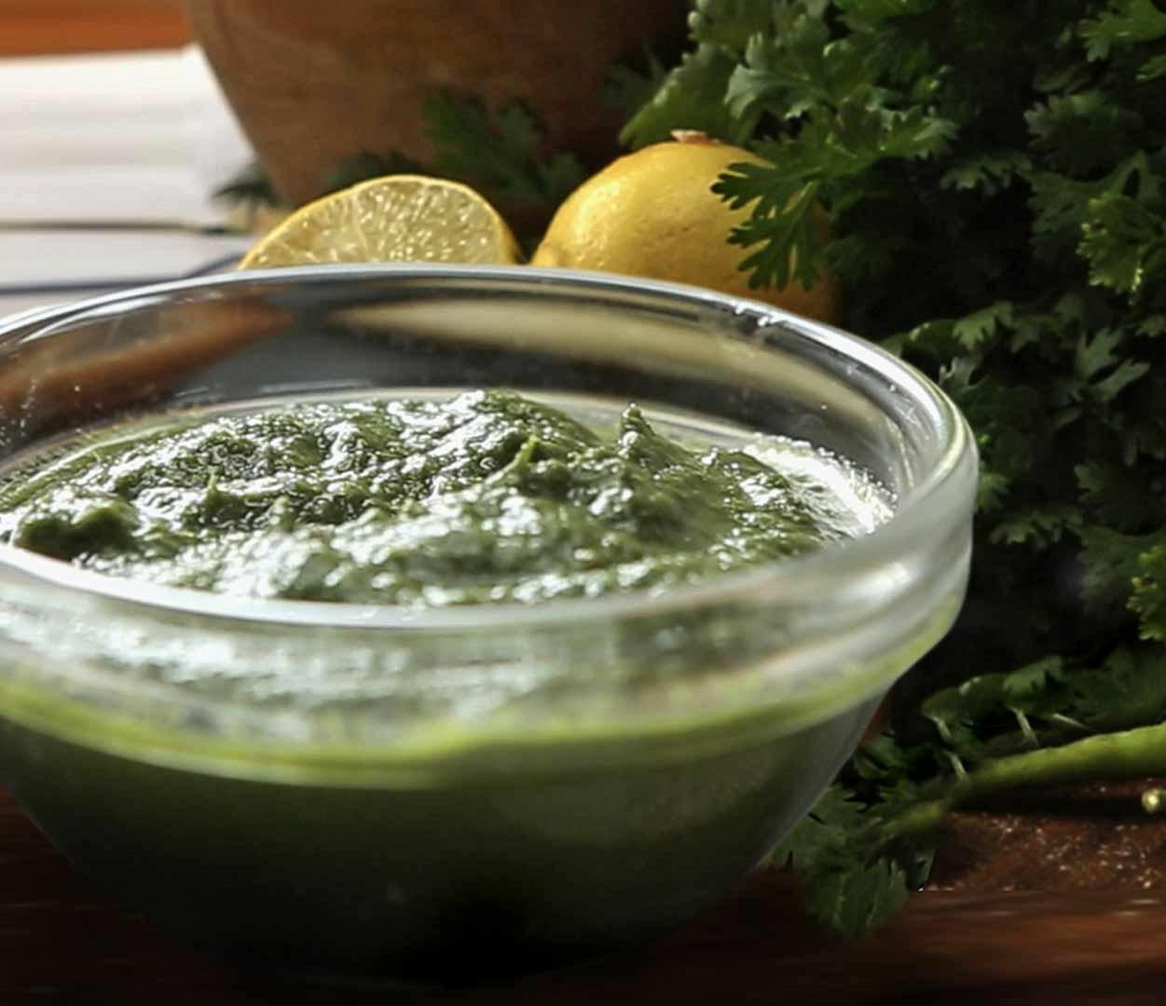GreenChutney: (2, 388, 888, 947)
